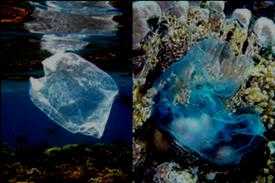Plastic: (149, 28, 268, 176), (27, 53, 120, 152)
